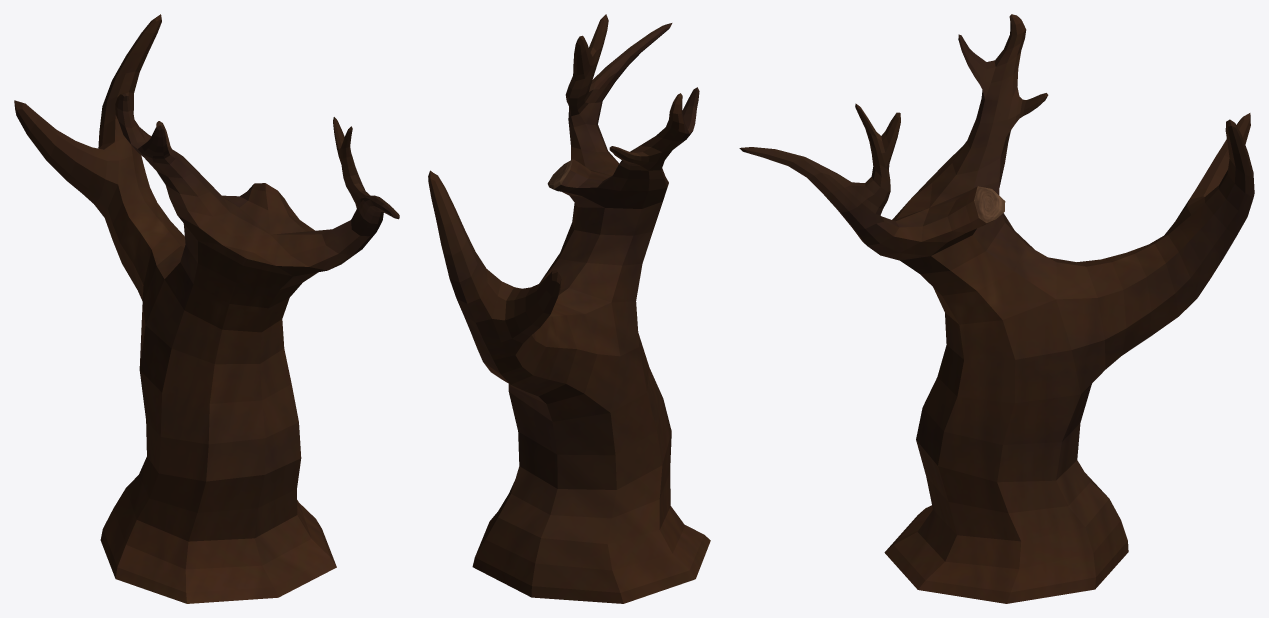
The model's file is F_Tree_naked_2.fbx.
3 views of the same model, side by side, from view 1: azimuth 30°, elevation 25°; view 2: azimuth 150°, elevation 25°; view 3: azimuth 270°, elevation 25° (orthographic). The views are drawn at different scales.
Parts seen in each view (by area): view 1: F_Tree_naked_2; view 2: F_Tree_naked_2; view 3: F_Tree_naked_2.
Boxes of the visible parts, left/top/right/bottom form: F_Tree_naked_2: left=14, top=14, right=399, bottom=603; F_Tree_naked_2: left=428, top=14, right=710, bottom=603; F_Tree_naked_2: left=739, top=14, right=1254, bottom=603.
Size of the model in its own units: 9.72 by 10.27 by 4.61.
Materials: 1 (1 with a texture image).
